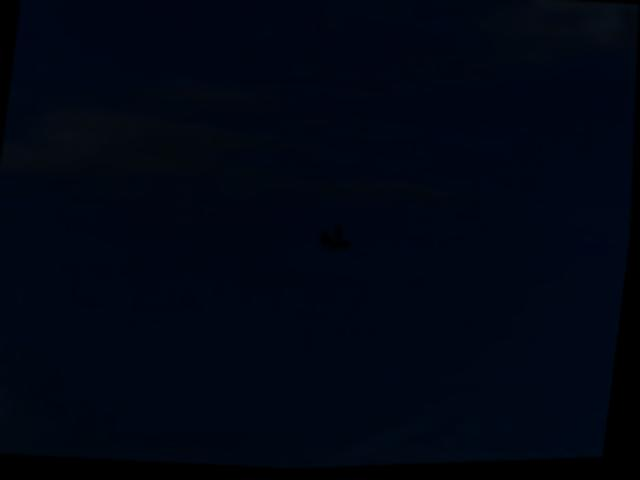uav: (315, 218, 360, 265)
